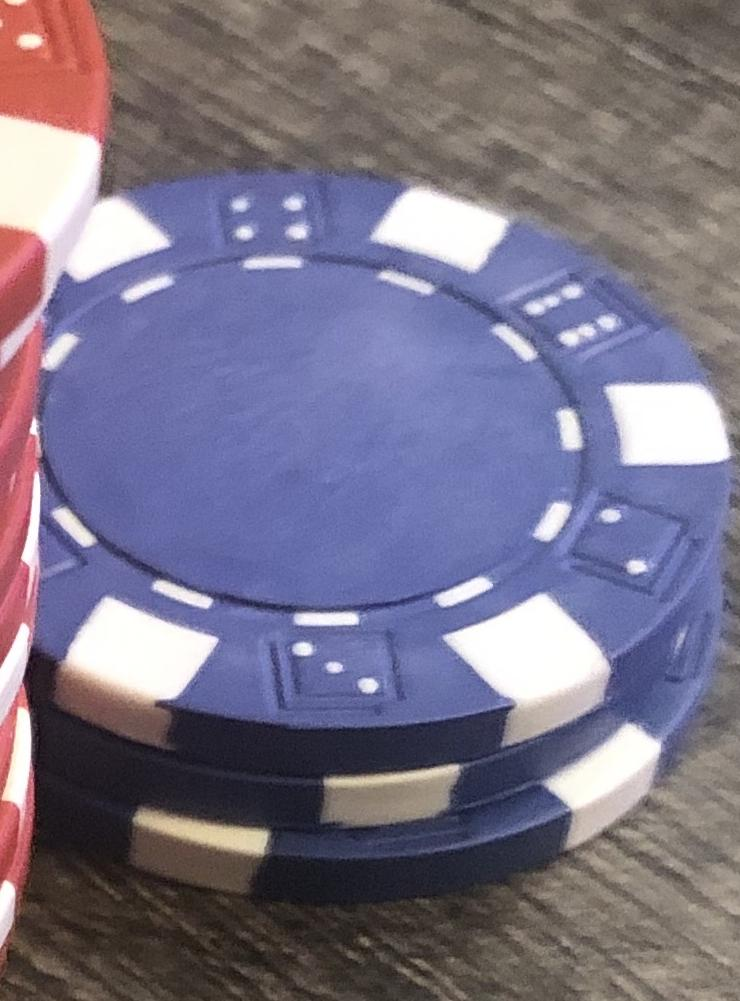Chip: (1, 1, 740, 1001)
